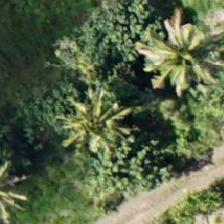Kelapa_Sawit: (105, 20, 195, 110), (53, 84, 143, 174), (144, 12, 223, 103)
